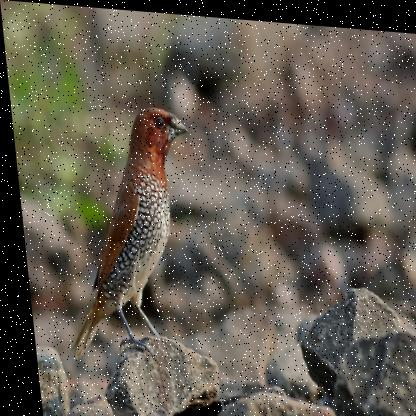Burung: (44, 98, 205, 366)
